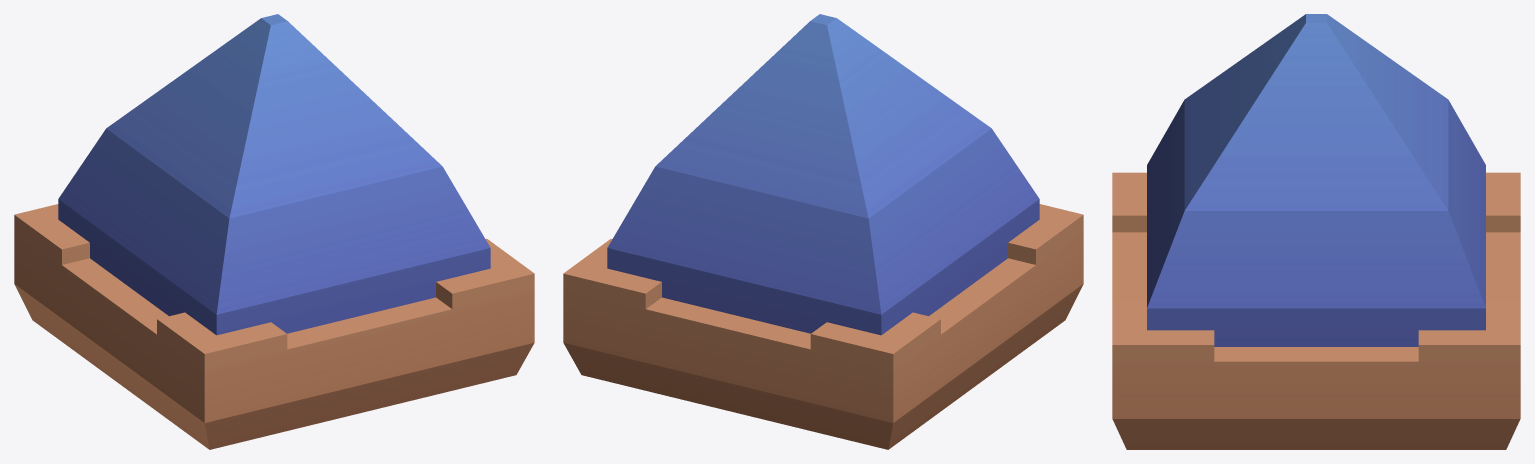
The model's file is tower-square-top-roof-rounded.obj.
The picture shows the model from 3 angles, left to right: view 1: azimuth 30°, elevation 25°; view 2: azimuth 150°, elevation 25°; view 3: azimuth 270°, elevation 25°; orthographic projection. The views are drawn at different scales.
Visible parts, largest first — view 1: tower-square-top-roof-rounded; view 2: tower-square-top-roof-rounded; view 3: tower-square-top-roof-rounded.
Boxes of the visible parts, x1=… form: tower-square-top-roof-rounded: x1=14, y1=14, x2=534, y2=449; tower-square-top-roof-rounded: x1=563, y1=14, x2=1083, y2=449; tower-square-top-roof-rounded: x1=1112, y1=14, x2=1520, y2=449.
Size of the model in its own units: 1 by 0.95 by 1.
1 material, 1 textured.
